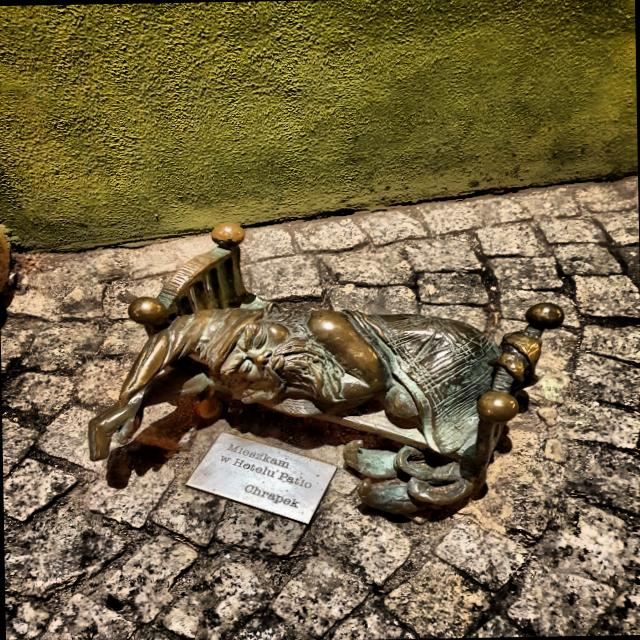Chrapek: (88, 224, 563, 513)
